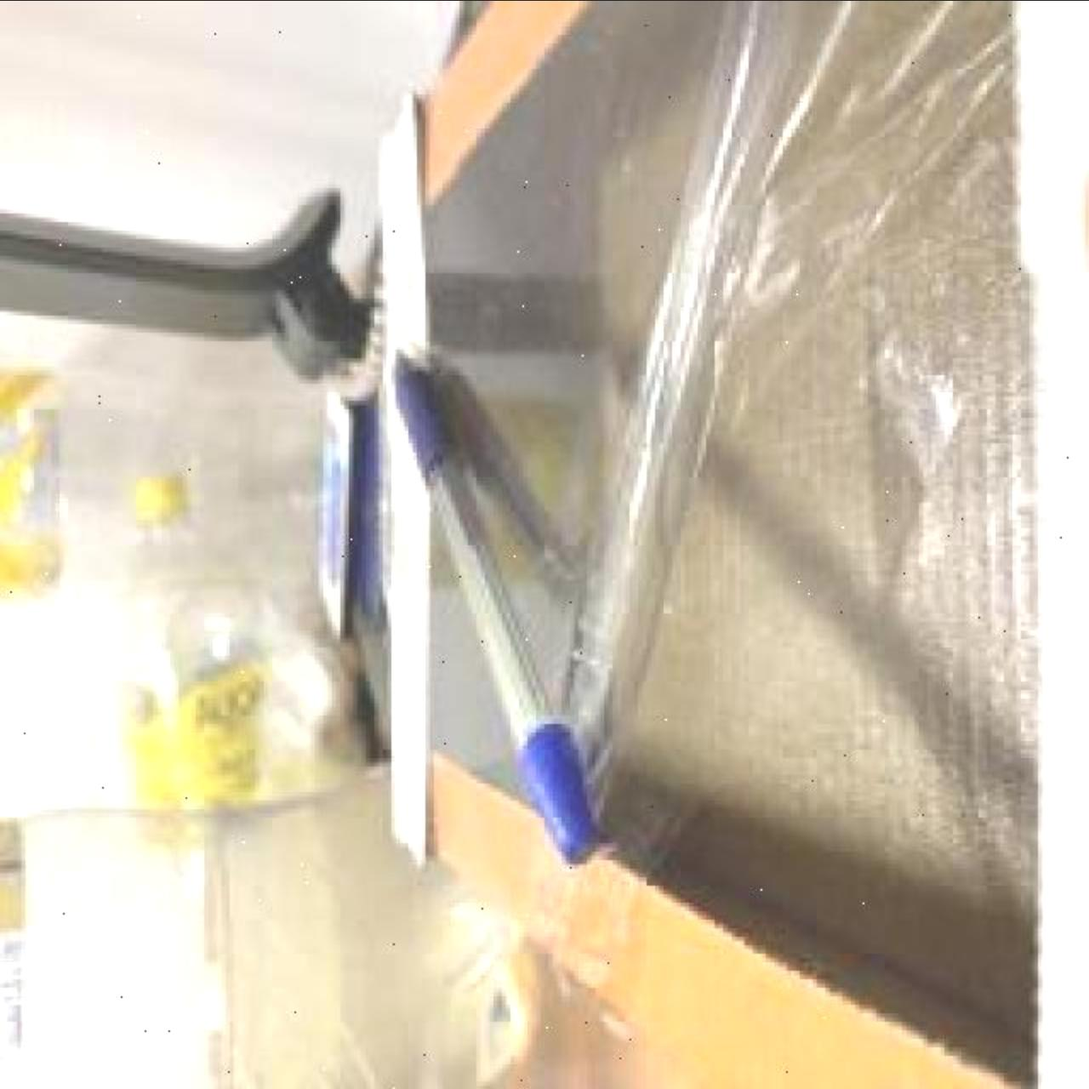pen: (391, 339, 604, 871)
